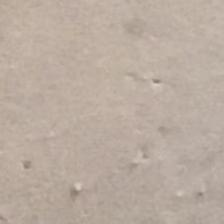Non_Crack: (20, 15, 198, 190)
